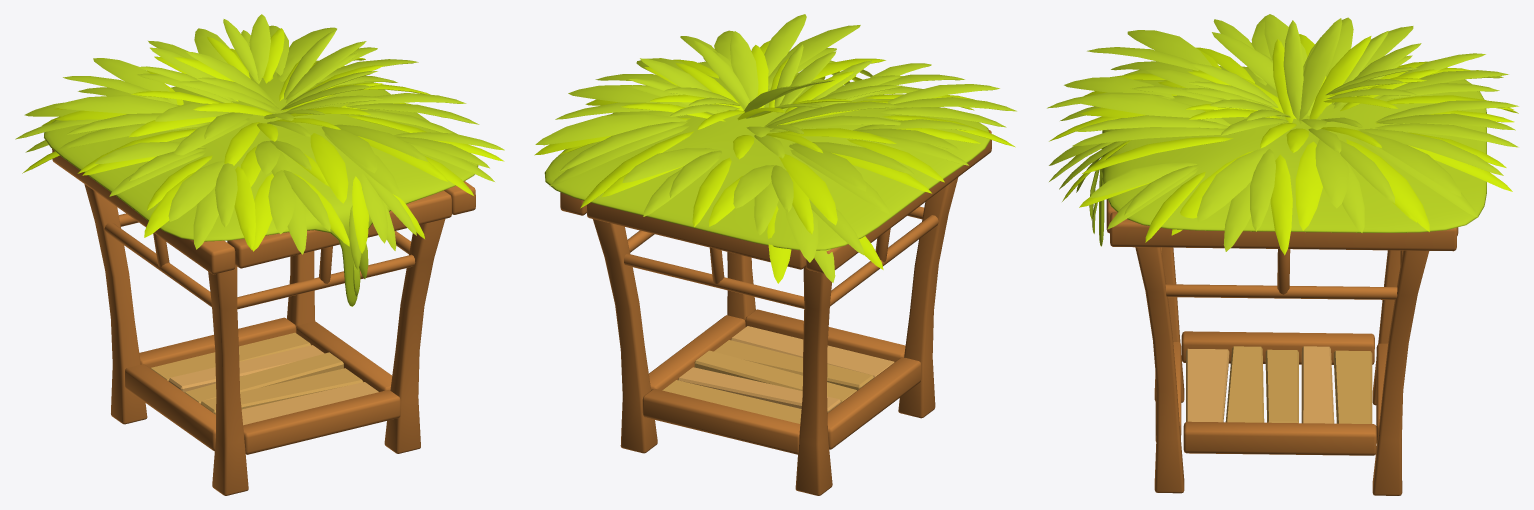
File: small_tower_model.glb
The picture shows the model from 3 angles, left to right: view 1: azimuth 30°, elevation 25°; view 2: azimuth 150°, elevation 25°; view 3: azimuth 270°, elevation 25°; orthographic projection. The views are drawn at different scales.
Visible parts, largest first — view 1: Plane.150_Plane.2637_Material.025_Material.025_0; view 2: Plane.150_Plane.2637_Material.025_Material.025_0; view 3: Plane.150_Plane.2637_Material.025_Material.025_0.
Part boxes in pixels (x1=…): Plane.150_Plane.2637_Material.025_Material.025_0: x1=15, y1=14, x2=504, y2=495; Plane.150_Plane.2637_Material.025_Material.025_0: x1=534, y1=14, x2=1016, y2=495; Plane.150_Plane.2637_Material.025_Material.025_0: x1=1047, y1=14, x2=1518, y2=495.
Bounding box in the file's own units: 3.76 × 3.63 × 3.89.
